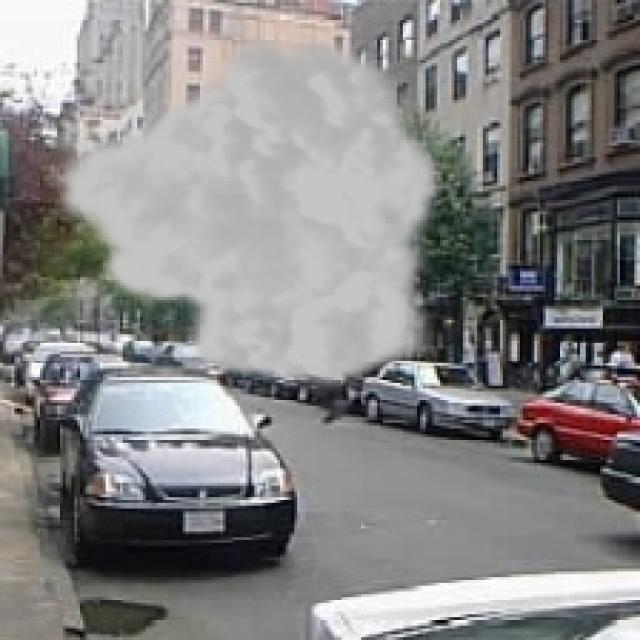smoke: (46, 26, 446, 394)
